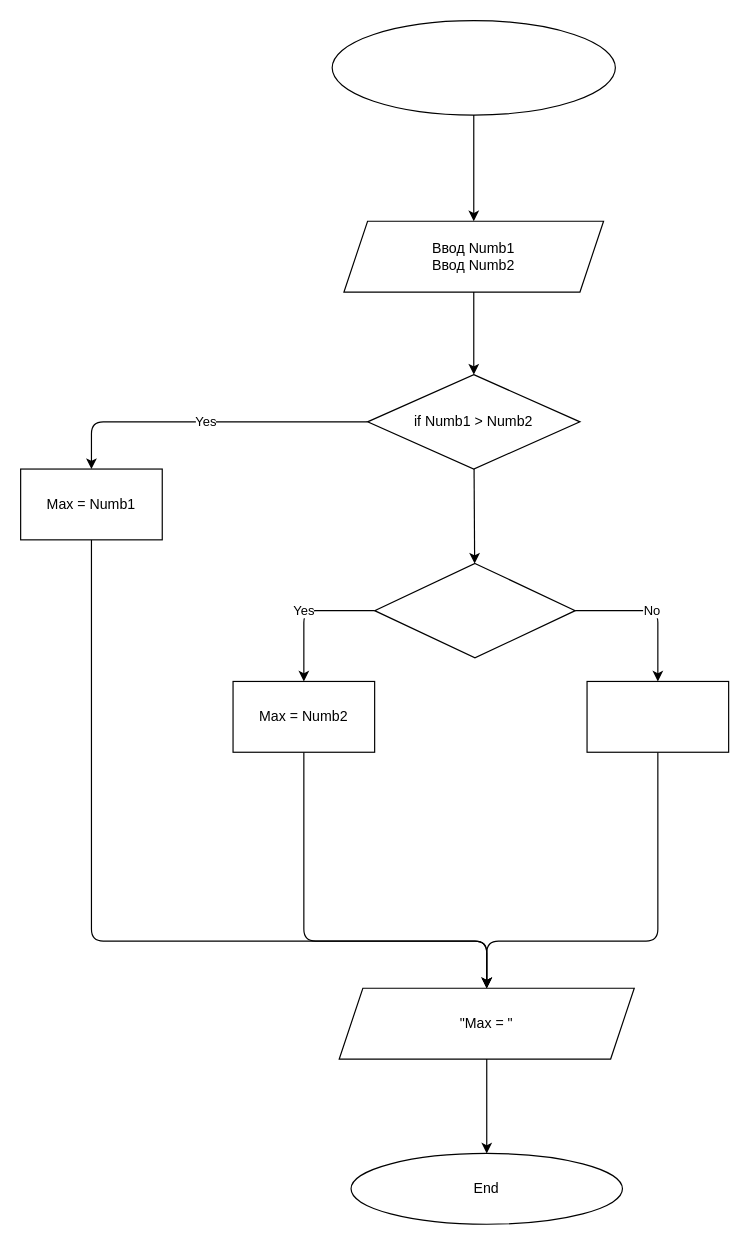
Some shapes in this 749 by 1245 pixel diagram are drawn without their labels. The centre of each missing label's shape, as x and y in pixels:
"if Numb2 > Numb1" goes at point 474,610.
"Numb1 = Numb2" goes at point 657,716.
"start" goes at point 473,67.
